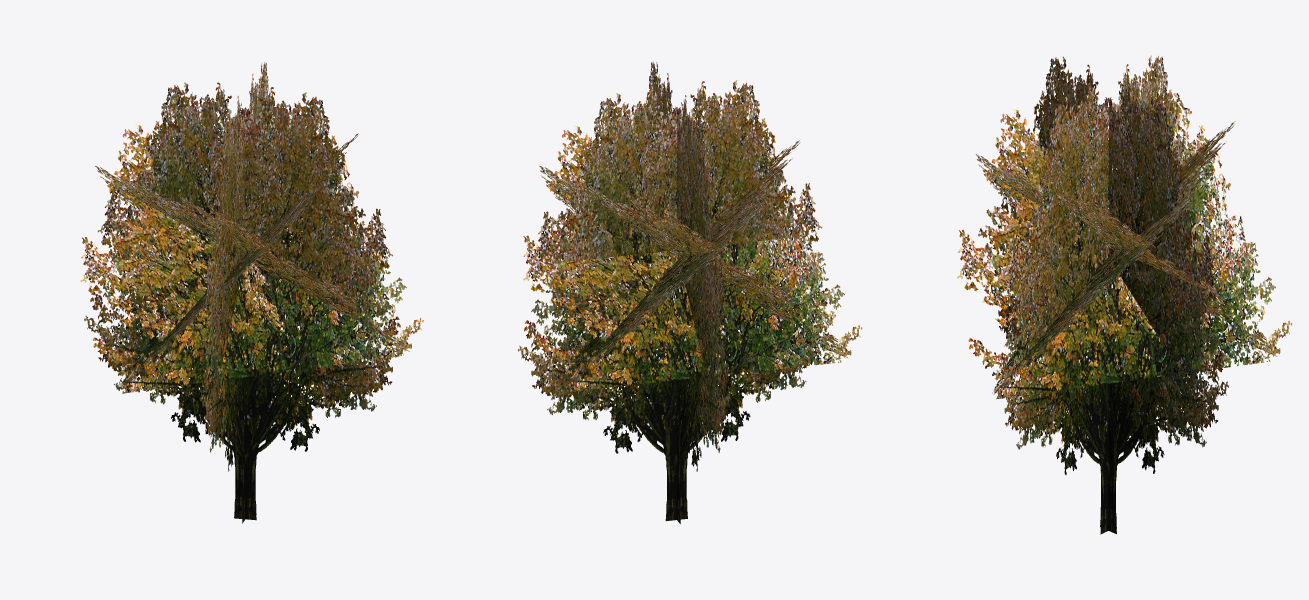
File: tree4.gltf
3 views of the same model, side by side, from view 1: azimuth 30°, elevation 25°; view 2: azimuth 150°, elevation 25°; view 3: azimuth 270°, elevation 25° (orthographic). The views are drawn at different scales.
Parts seen in each view (by area): view 1: Node_d3680e5e-088d-47f6-a930-470ecc52dac6_0_0; view 2: Node_d3680e5e-088d-47f6-a930-470ecc52dac6_0_0; view 3: Node_d3680e5e-088d-47f6-a930-470ecc52dac6_0_0.
Boxes of the visible parts, box(x1,y1,x2,y2) form: Node_d3680e5e-088d-47f6-a930-470ecc52dac6_0_0: box(80, 62, 423, 523); Node_d3680e5e-088d-47f6-a930-470ecc52dac6_0_0: box(517, 61, 862, 523); Node_d3680e5e-088d-47f6-a930-470ecc52dac6_0_0: box(957, 55, 1291, 534).
Size of the model in its own units: 12.49 by 14.83 by 11.66.
Materials: 1 (1 with a texture image).
